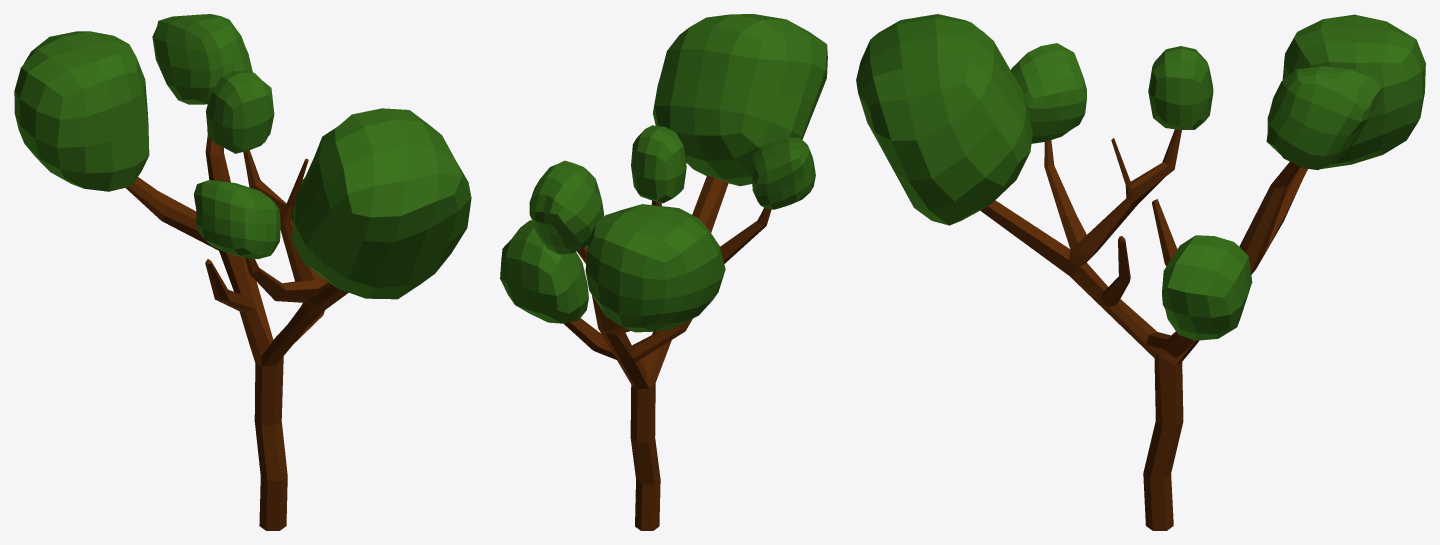
Rendered from SmallTree.fbx.
3 renders of one model, left to right at view 1: azimuth 30°, elevation 25°; view 2: azimuth 150°, elevation 25°; view 3: azimuth 270°, elevation 25°, orthographic. The views are drawn at different scales.
Visible parts, largest first — view 1: Cube.001, Cylinder; view 2: Cube.001, Cylinder; view 3: Cube.001, Cylinder.
Part boxes in pixels (left/top/right/bottom): Cube.001: left=14, top=14, right=471, bottom=299; Cylinder: left=125, top=137, right=348, bottom=530; Cube.001: left=500, top=14, right=827, bottom=332; Cylinder: left=563, top=175, right=771, bottom=530; Cube.001: left=856, top=14, right=1425, bottom=340; Cylinder: left=980, top=129, right=1307, bottom=530.
Bounding box in the file's own units: 101 × 163 × 157.
